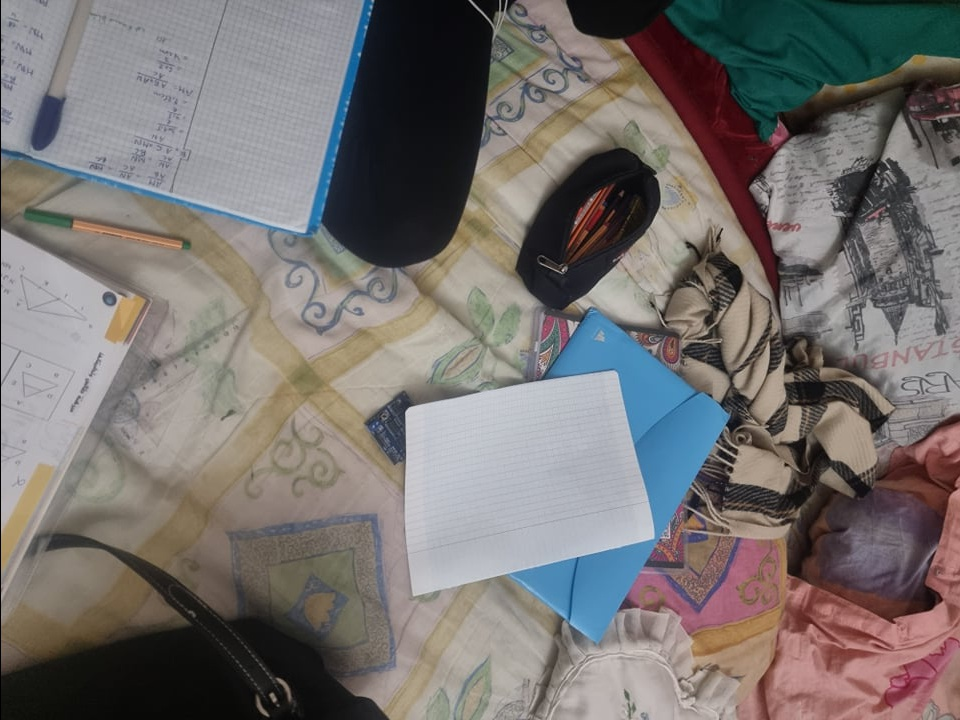5V EXPANSION: (364, 390, 420, 466)
